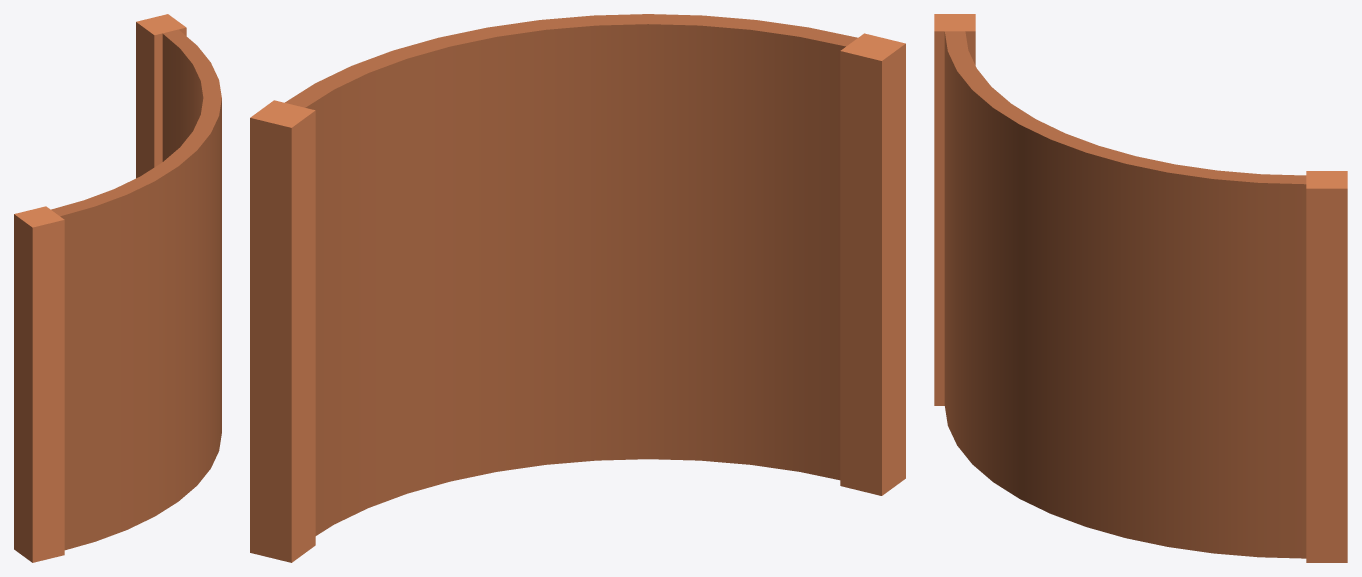
The model's file is wallWoodCurved.fbx.
The picture shows the model from 3 angles, left to right: view 1: azimuth 30°, elevation 25°; view 2: azimuth 150°, elevation 25°; view 3: azimuth 270°, elevation 25°; orthographic projection. The views are drawn at different scales.
Parts seen in each view (by area): view 1: wallWoodCurved; view 2: wallWoodCurved; view 3: wallWoodCurved.
Boxes of the visible parts, left/top/right/bottom form: wallWoodCurved: left=14, top=14, right=221, bottom=562; wallWoodCurved: left=250, top=14, right=905, bottom=562; wallWoodCurved: left=934, top=14, right=1347, bottom=562.
Size of the model in its own units: 10 by 10 by 10.
